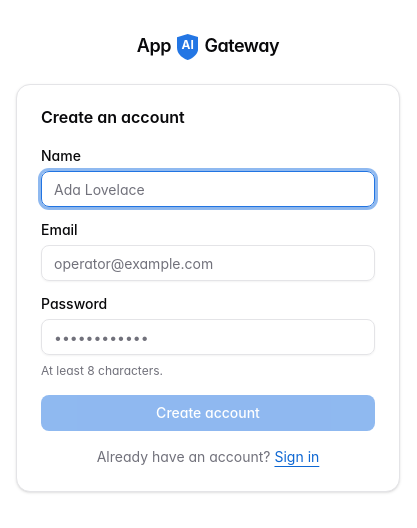
Scenario: SignupPage › keeps submission disabled until the password is long enough
Type "Ada" into the field labelled "Name" at (208, 189), box [41,171,375,207]
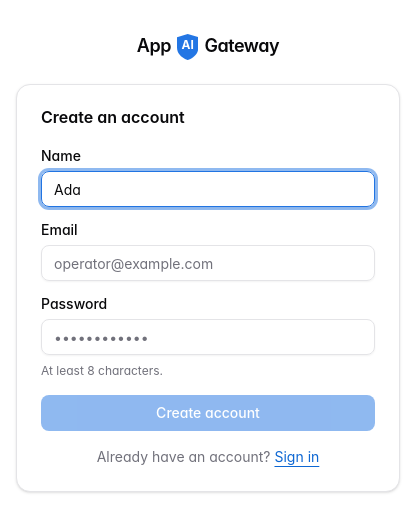
Type "ada@example.test" into the field labelled "Email" at (208, 263), box [41,245,375,281]
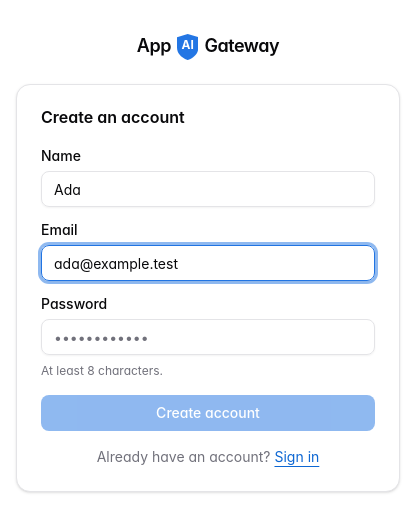
Type "short" into the password field labelled "Password" at (208, 337), box [41,319,375,355]
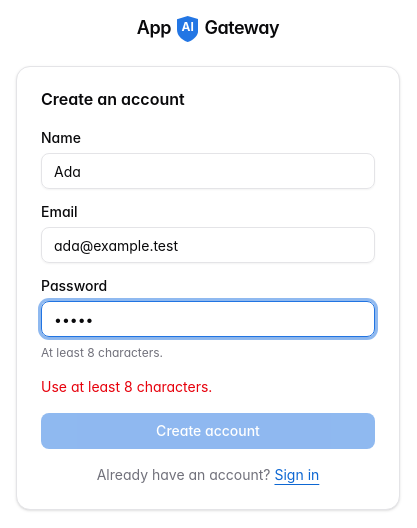
Expected: the button "Create account" is disabled, [41,413,375,449]
Expected: the text "Use at least 8 characters." is shown, [41,378,212,395]
